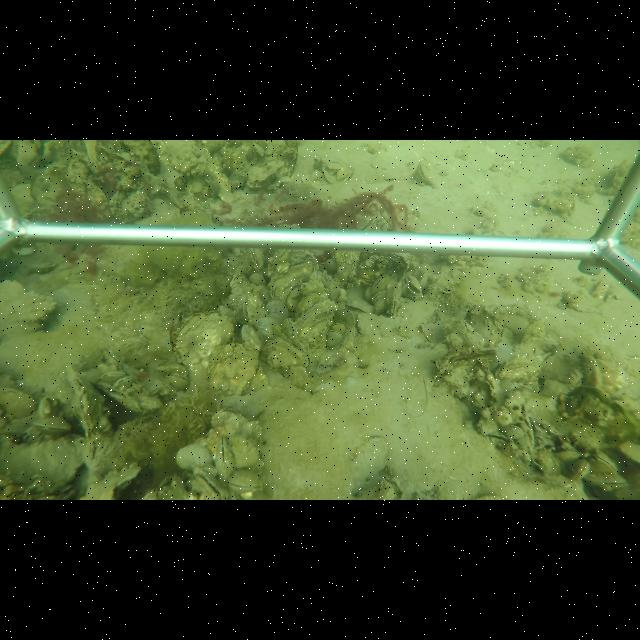Oyster-Closed: (173, 309, 236, 390), (1, 433, 86, 487), (64, 364, 111, 440), (209, 343, 259, 400), (292, 298, 336, 361), (270, 258, 317, 304), (246, 159, 287, 191), (210, 437, 237, 481), (102, 344, 133, 378), (227, 469, 262, 491), (591, 450, 622, 474), (582, 354, 604, 387), (593, 475, 632, 493), (415, 159, 436, 187), (386, 282, 402, 317), (344, 298, 372, 314), (335, 307, 355, 327), (372, 274, 392, 292), (100, 370, 125, 381), (110, 377, 133, 387), (372, 299, 386, 315)
Oyster-Open: (192, 467, 227, 500), (515, 402, 536, 451), (404, 274, 423, 295)
